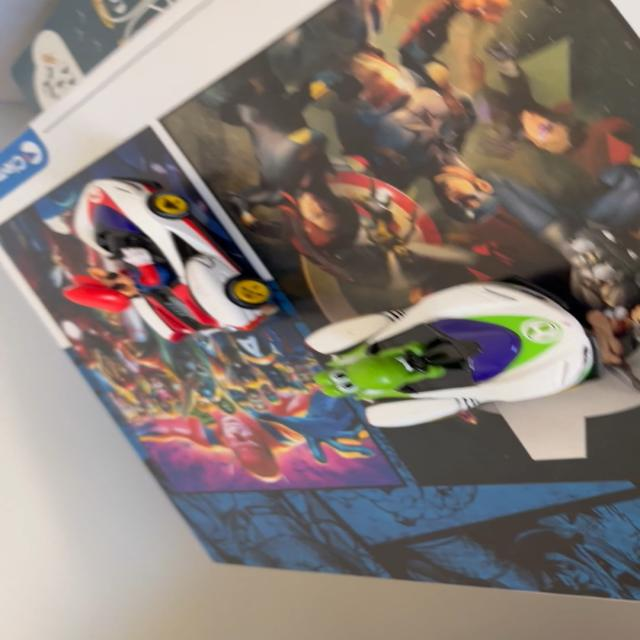mario: (48, 164, 287, 355)
yoshi: (288, 271, 619, 453)
